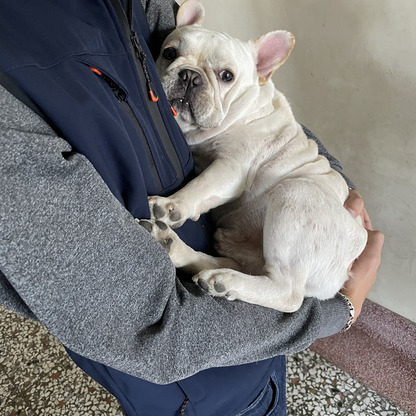bulldog: (144, 1, 376, 320)
